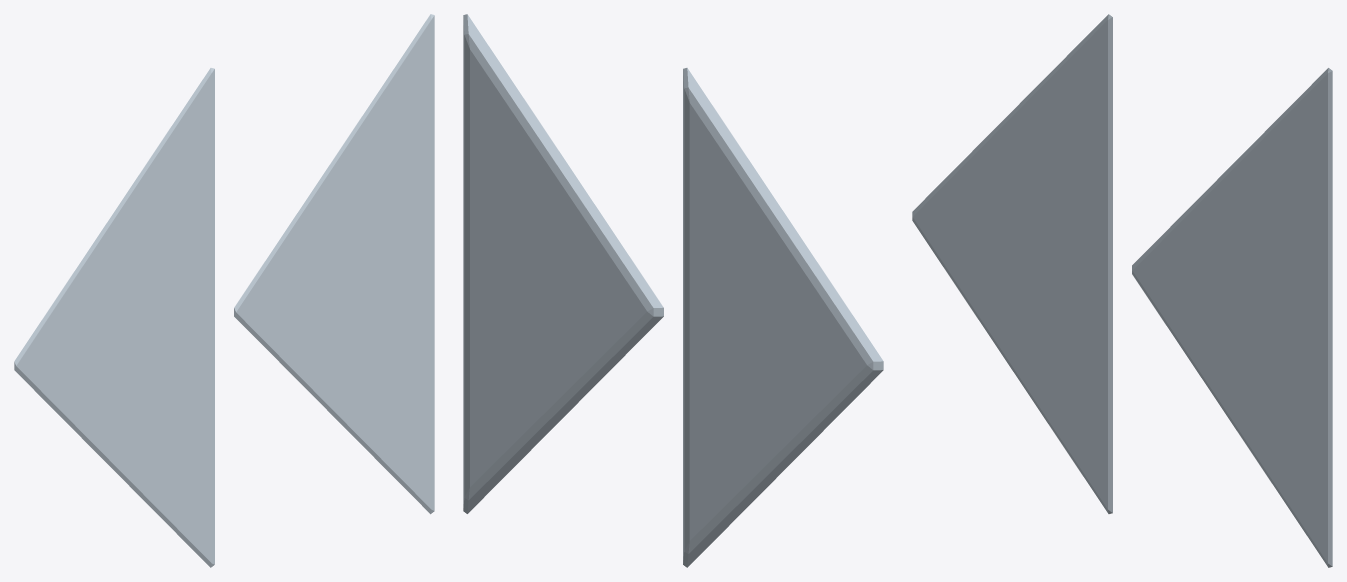
File: Fast_Forward_3D_Icon.fbx
3 views of the same model, side by side, from view 1: azimuth 30°, elevation 25°; view 2: azimuth 150°, elevation 25°; view 3: azimuth 330°, elevation 25° (orthographic).
Visible parts, largest first — view 1: Fast_Forward_3D_Icon_01; view 2: Fast_Forward_3D_Icon_01; view 3: Fast_Forward_3D_Icon_01.
Boxes of the visible parts, left/top/right/bottom form: Fast_Forward_3D_Icon_01: left=14, top=14, right=434, bottom=567; Fast_Forward_3D_Icon_01: left=463, top=14, right=883, bottom=567; Fast_Forward_3D_Icon_01: left=912, top=14, right=1332, bottom=567.
Bounding box in the file's own units: 90.36 × 103 × 1.63.
